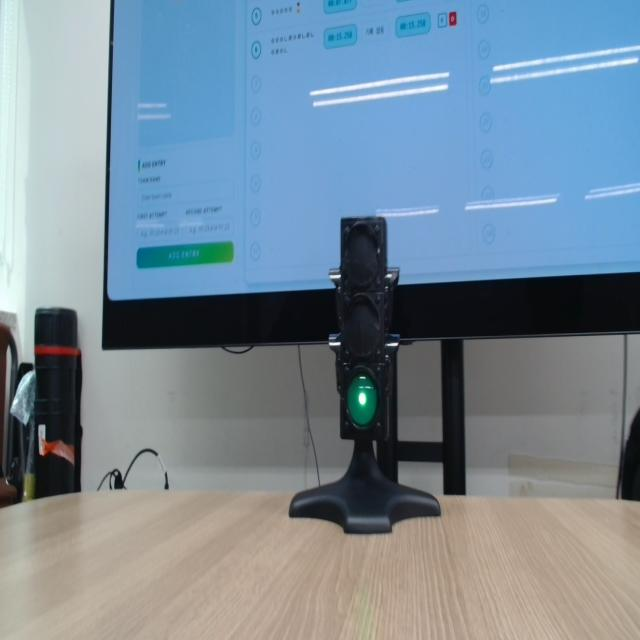green_light: (347, 374, 379, 428)
